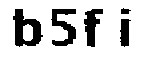5: (50, 6, 81, 47)
b: (9, 5, 45, 48)
f: (81, 5, 110, 50)
i: (118, 4, 139, 50)
